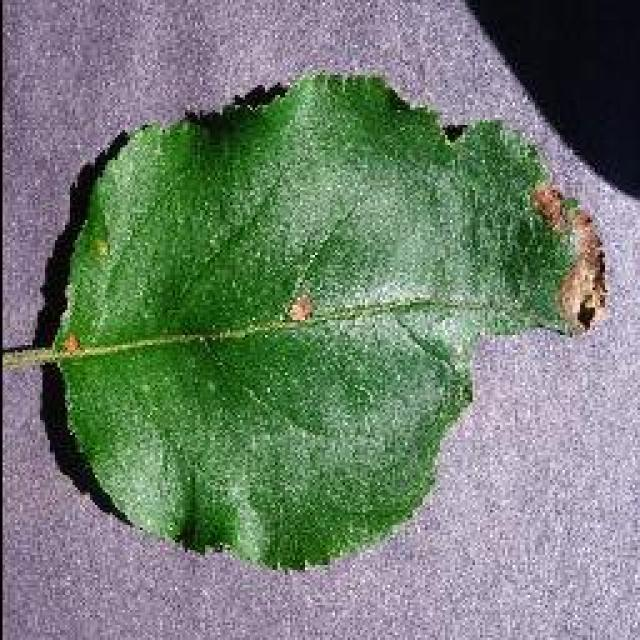Black_rot: (40, 68, 605, 572)
